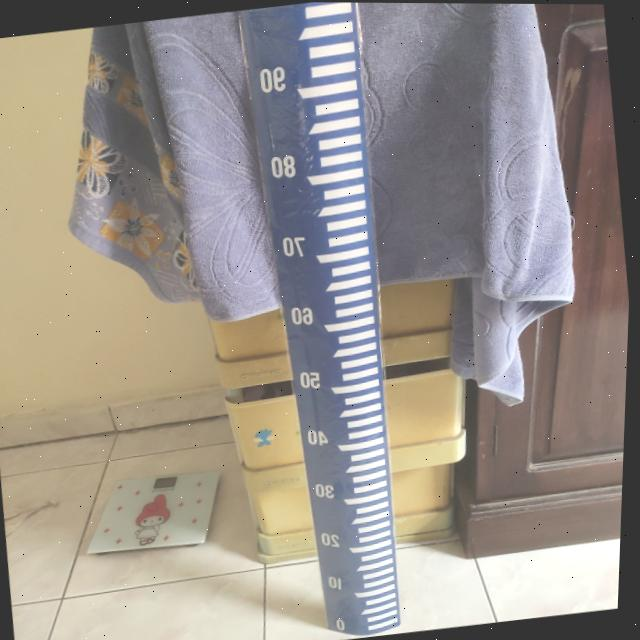water-meter: (209, 2, 444, 640)
